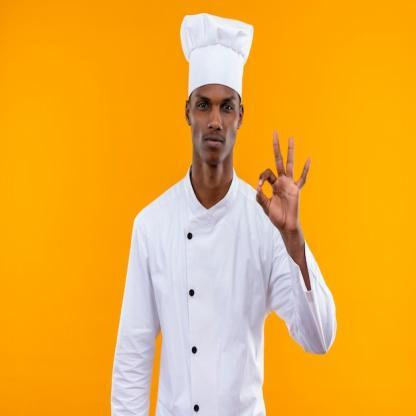thumb_down: (254, 127, 312, 236)
